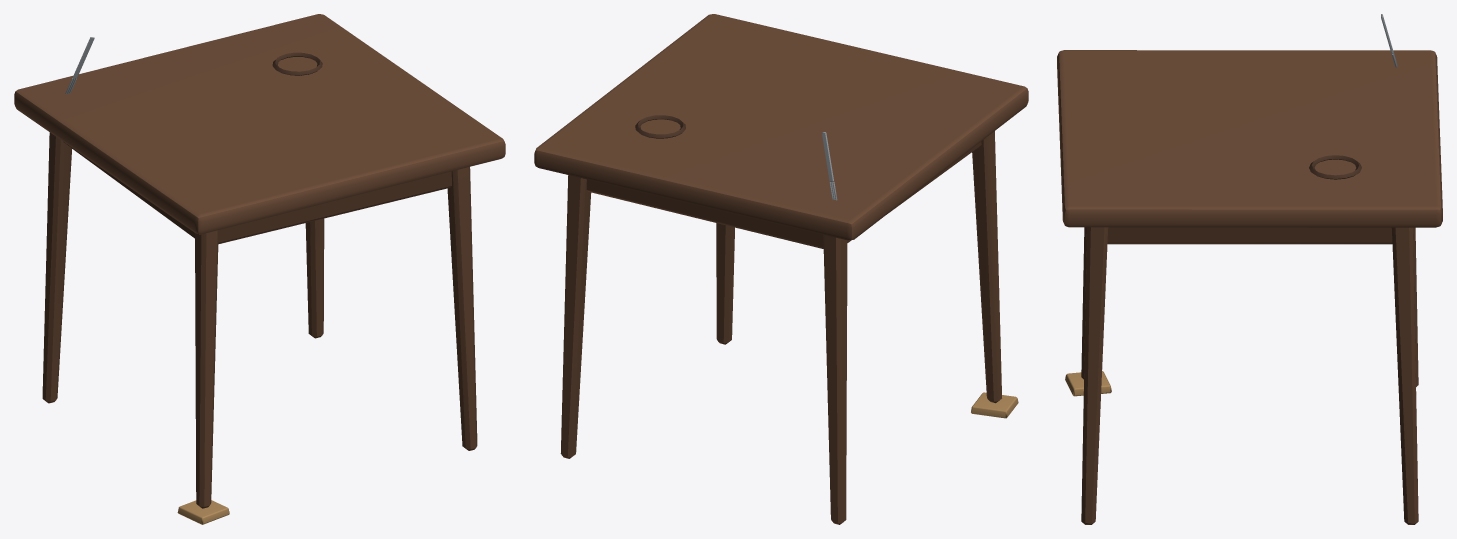
The model's file is table_rickety.glb.
The picture shows the model from 3 angles, left to right: view 1: azimuth 30°, elevation 25°; view 2: azimuth 150°, elevation 25°; view 3: azimuth 270°, elevation 25°; orthographic projection. The views are drawn at different scales.
Parts seen in each view (by area): view 1: table_rickety; view 2: table_rickety; view 3: table_rickety.
Boxes of the visible parts, x1,y1,x2,y2 form: table_rickety: [14, 14, 505, 524]; table_rickety: [534, 14, 1028, 524]; table_rickety: [1057, 14, 1442, 524].
Size of the model in its own units: 0.8122 by 0.8987 by 0.8123.
